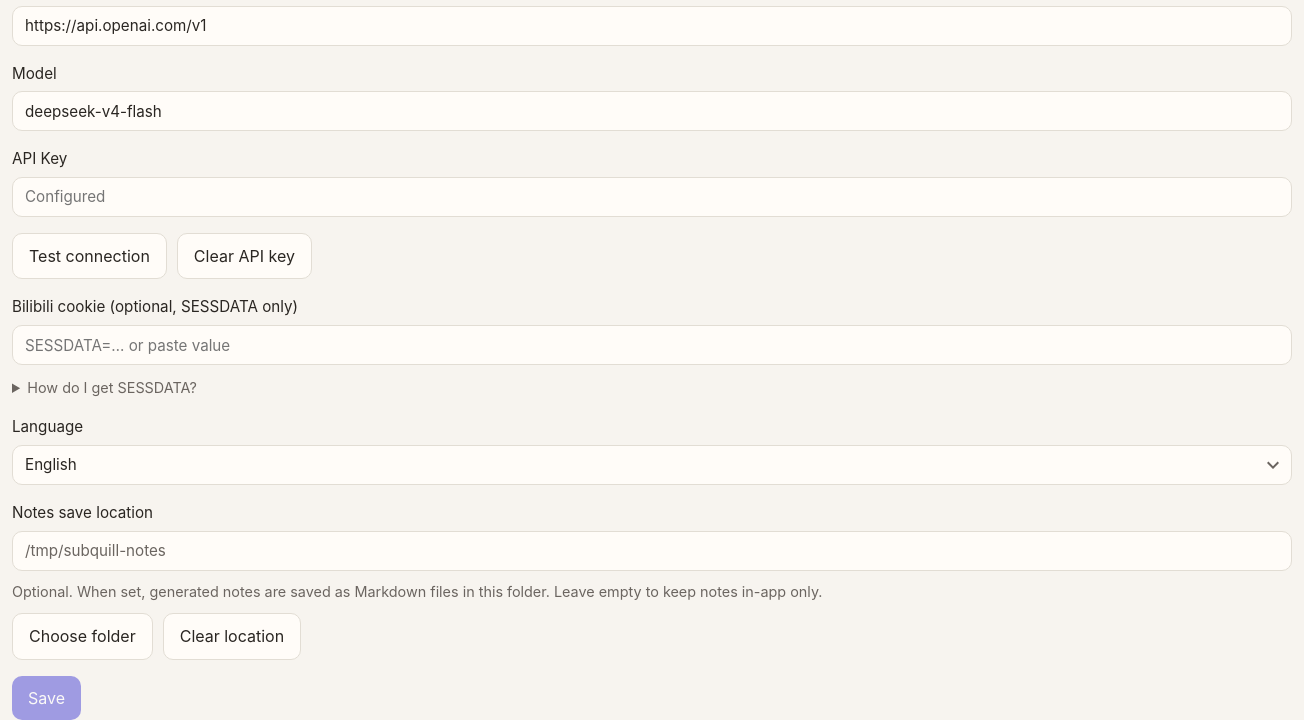
Test case: ConfigForm › clears notes save location immediately without waiting for Save
This screenshot has width=1304, height=720.
(page scrolled)
Click the button "Clear location": (232, 636) [163,613,301,660]
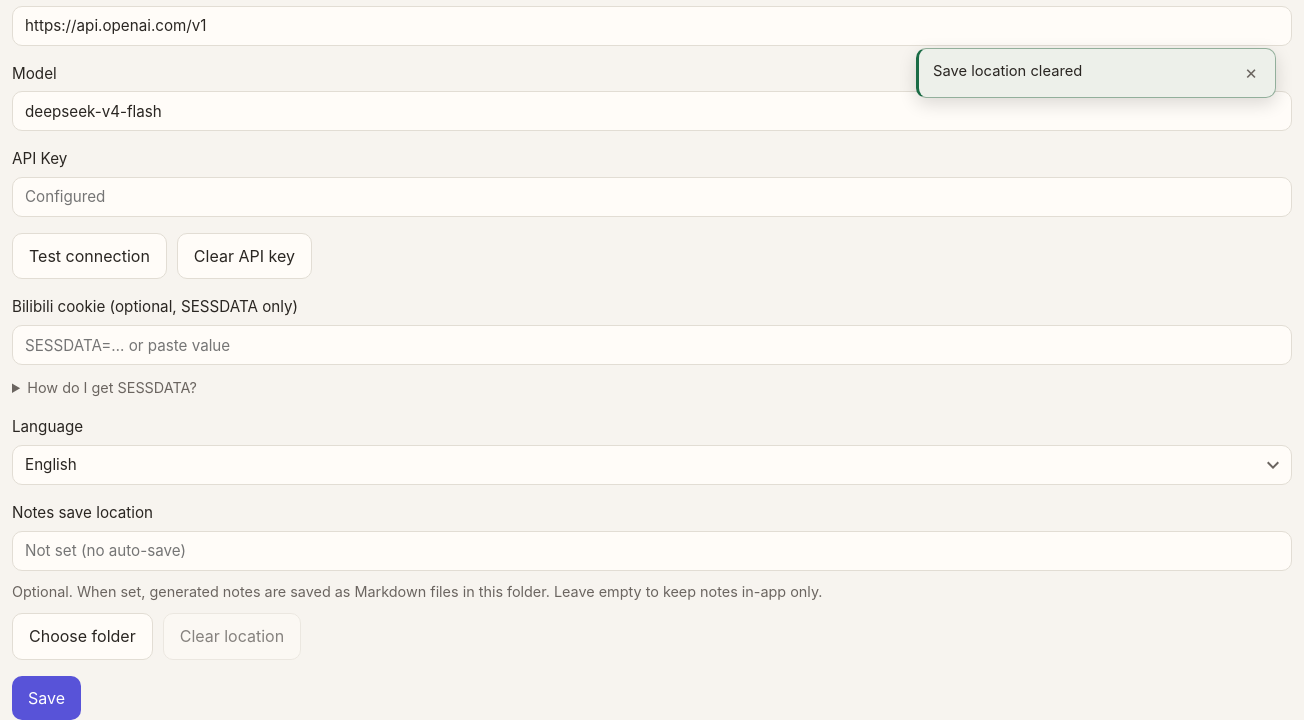
Expected: the button "Save" is shown, [12,676,81,719]
Expected: the text "Save location cleared" is shown, [933,62,1082,80]
